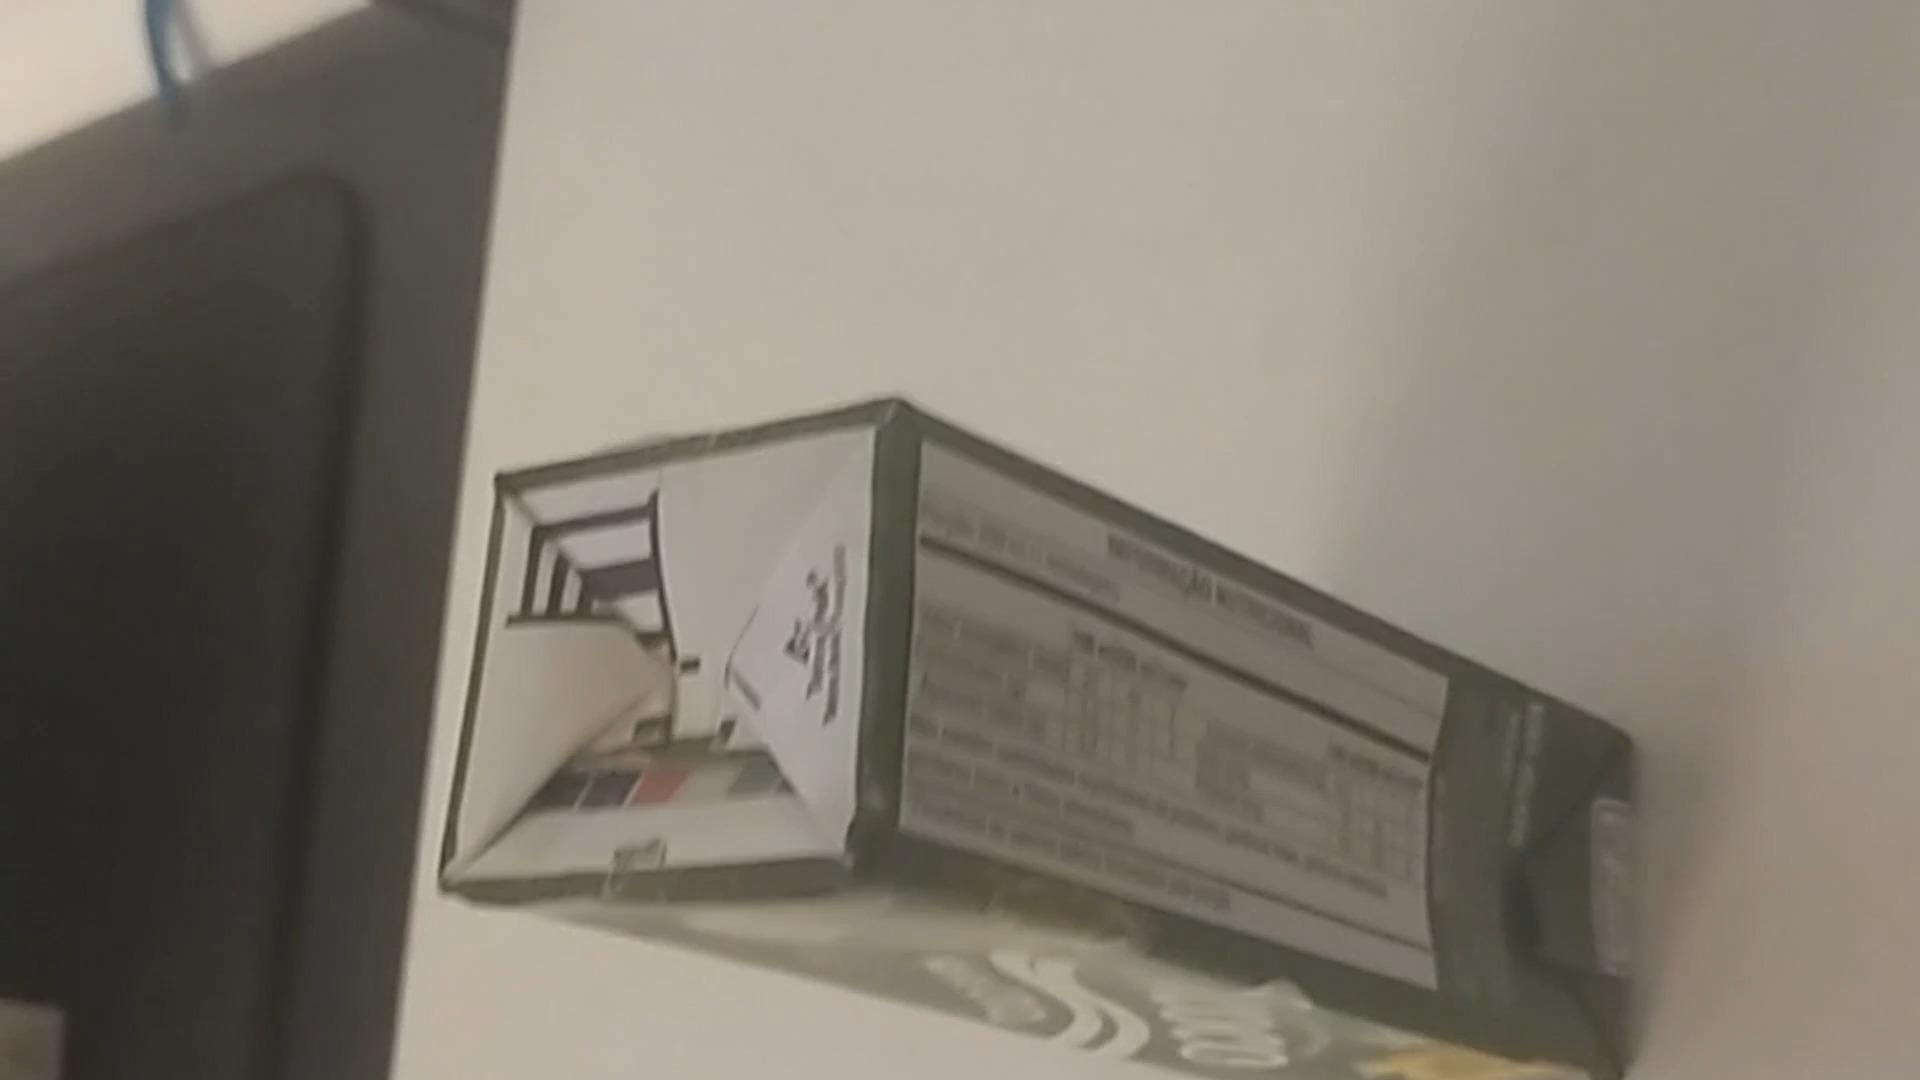coco: (443, 400, 1665, 1080)
